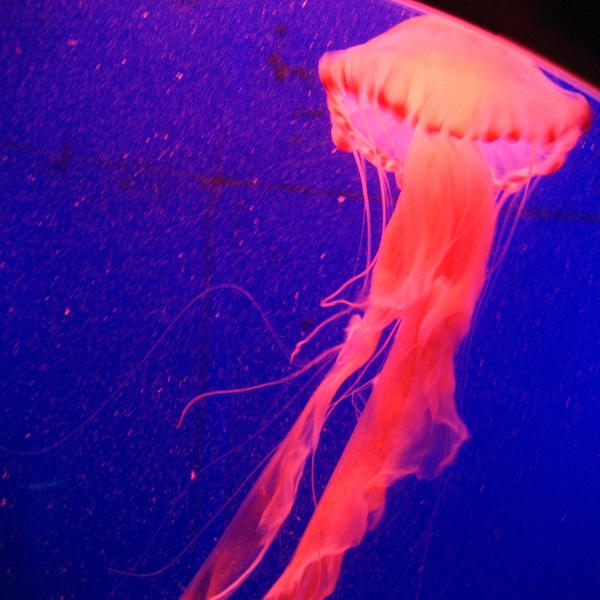Jellyfish: (33, 8, 595, 599)
